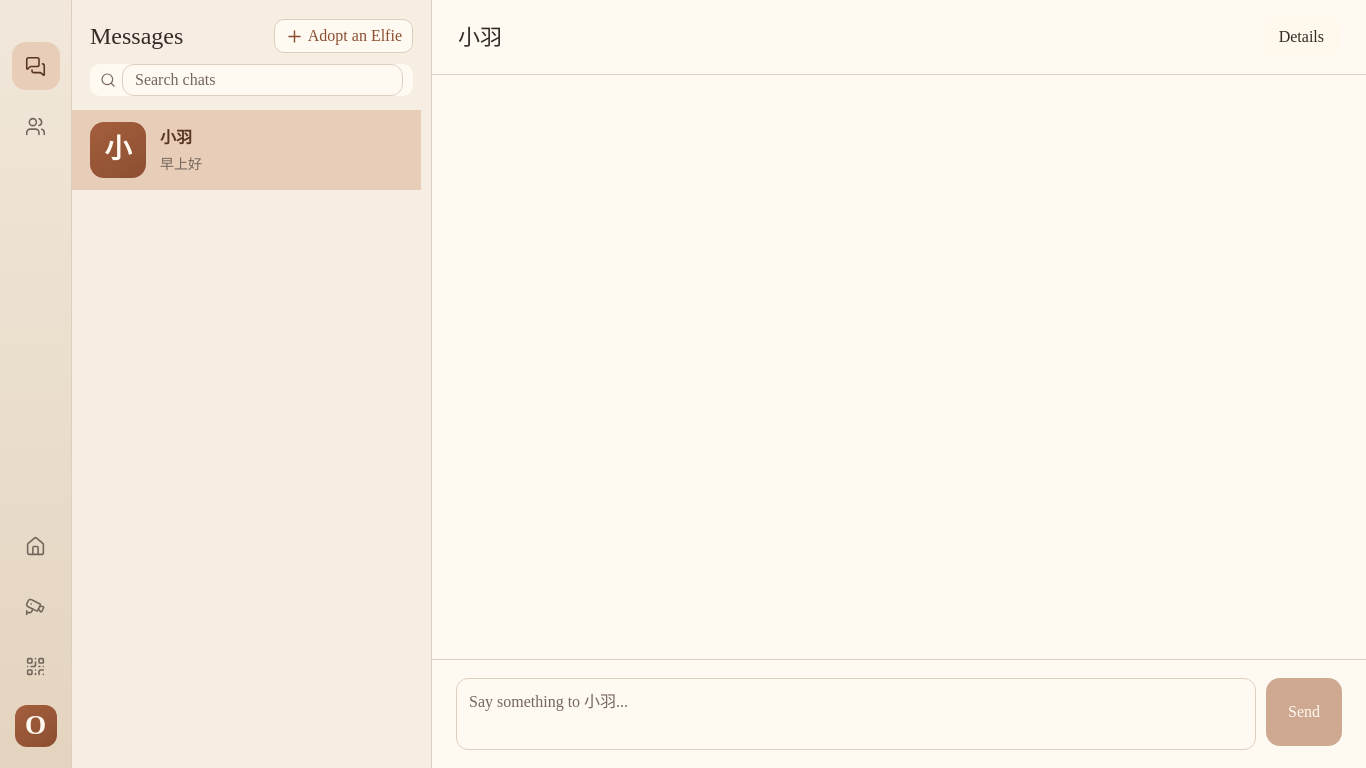
Test: ChatPage list pane headings › hides REST send detail in English
This screenshot has width=1366, height=768.
// the user submits a message while the socket cannot send.
Type "hello" into the text box with placeholder "Say something to 小羽...".
click(856, 714); type("hello")  # box [456,678,1256,750]
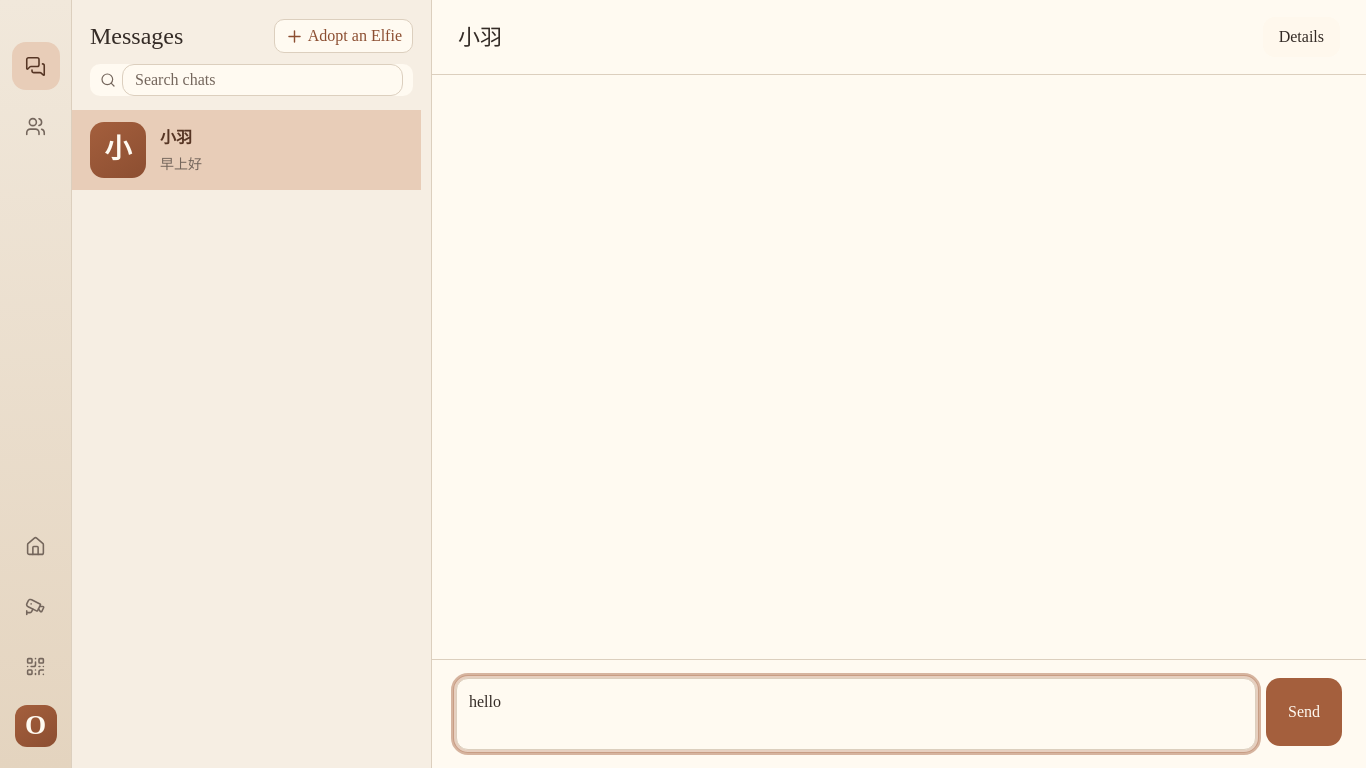
Click the button "Send".
click(1304, 712)  # box [1266,678,1342,746]
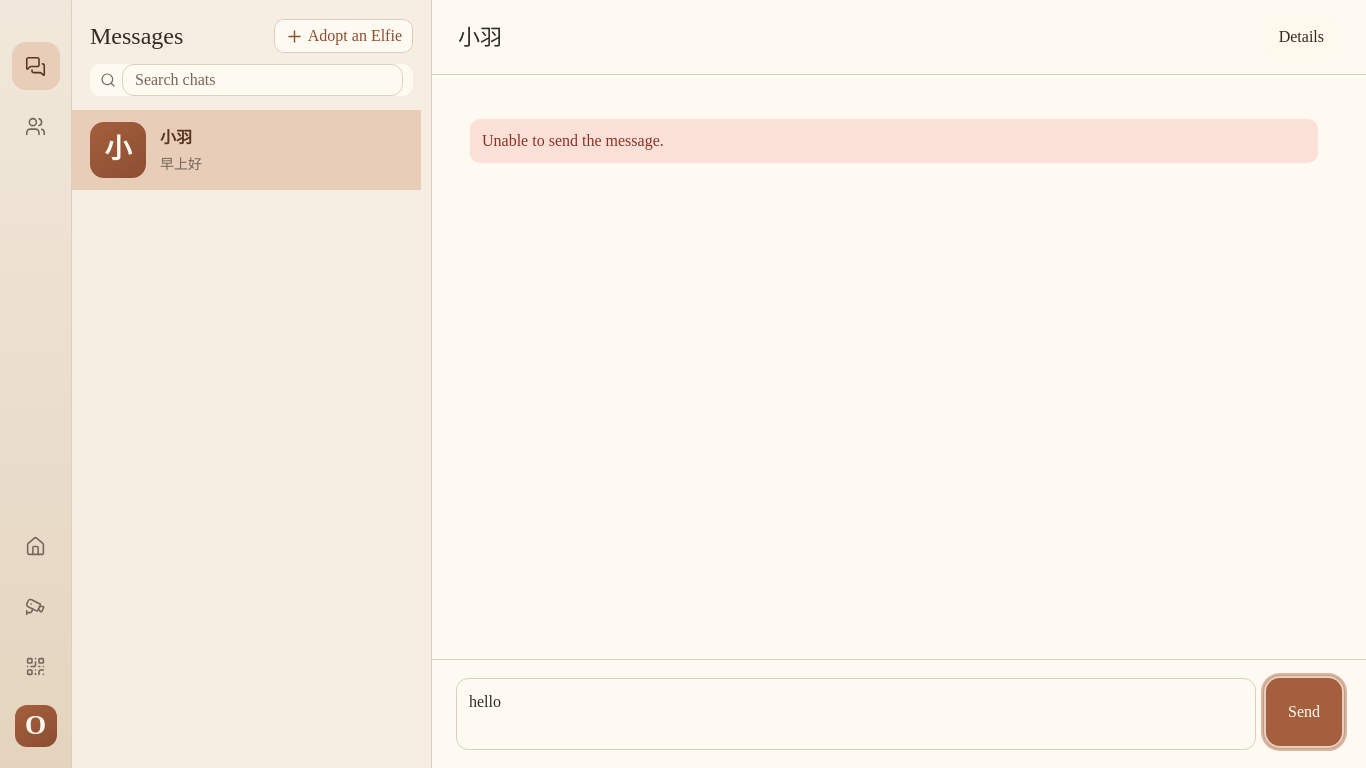
Now the message reads "Unable to send the message.", box [482,132,664,149]
